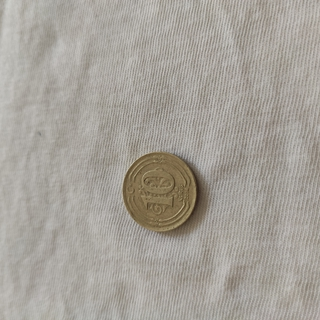10KURUS: (121, 150, 199, 233)
